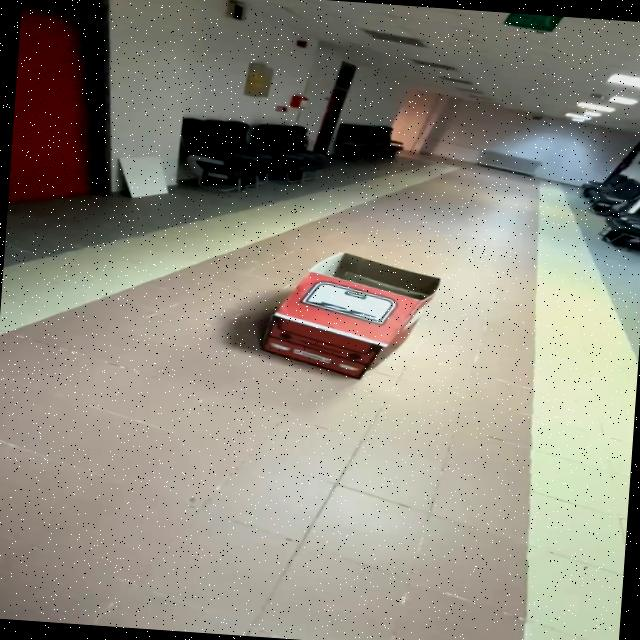red_car: (229, 233, 470, 405)
